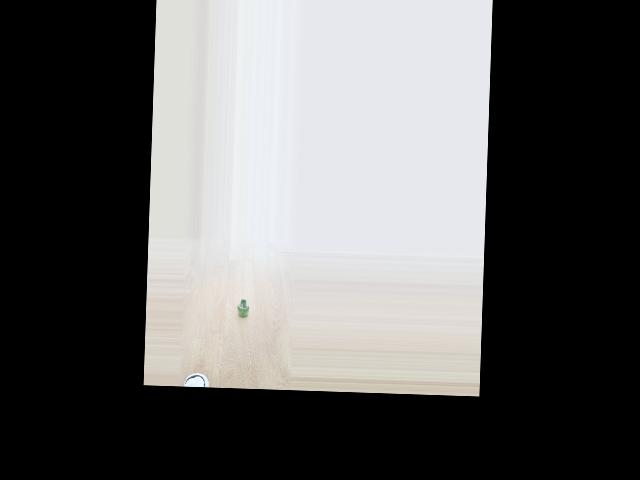beer: (236, 299, 249, 318)
